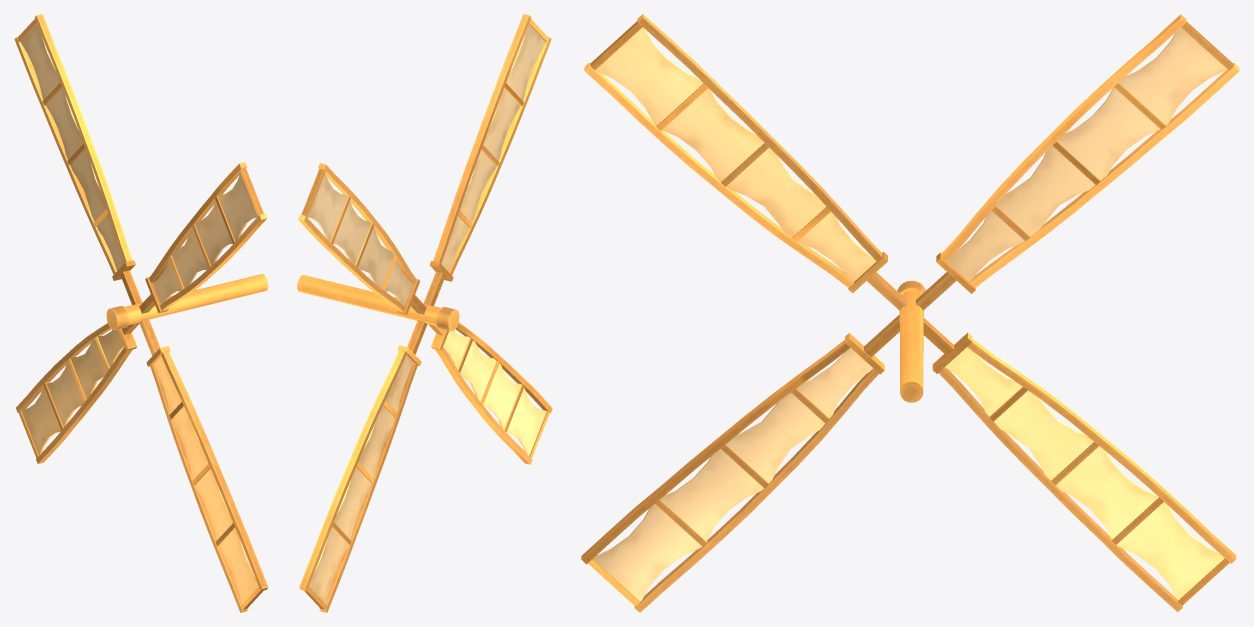
The model's file is SM_Mill_Fan.fbx.
3 renders of one model, left to right at view 1: azimuth 30°, elevation 25°; view 2: azimuth 150°, elevation 25°; view 3: azimuth 270°, elevation 25°, orthographic. The views are drawn at different scales.
Visible parts, largest first — view 1: SM_Mill_Fan_LOD0; view 2: SM_Mill_Fan_LOD0; view 3: SM_Mill_Fan_LOD0.
Boxes of the visible parts, x1=… form: SM_Mill_Fan_LOD0: x1=14, y1=14, x2=268, y2=612; SM_Mill_Fan_LOD0: x1=297, y1=14, x2=552, y2=612; SM_Mill_Fan_LOD0: x1=581, y1=14, x2=1239, y2=612.
Size of the model in its own units: 333 by 942 by 940.
